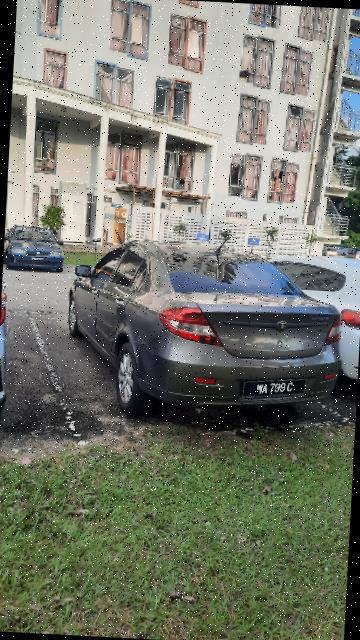License_Plate: (243, 374, 311, 405)
car: (58, 236, 350, 425), (258, 250, 360, 385), (5, 220, 70, 273)
